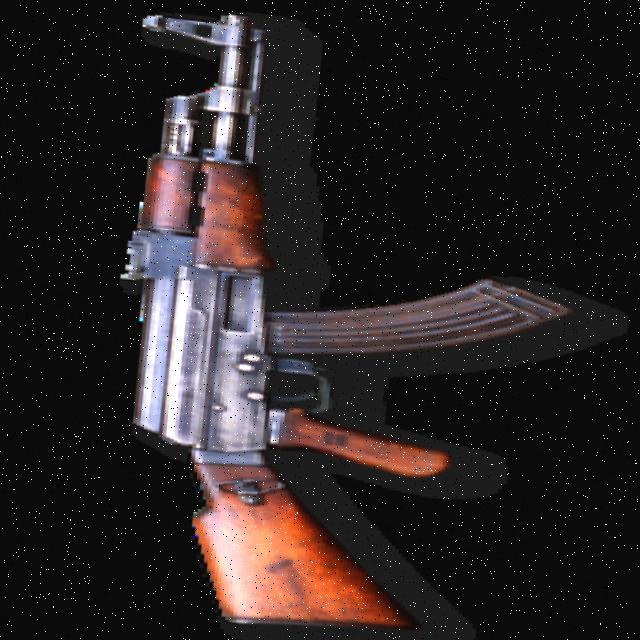firearm: (84, 3, 604, 640)
